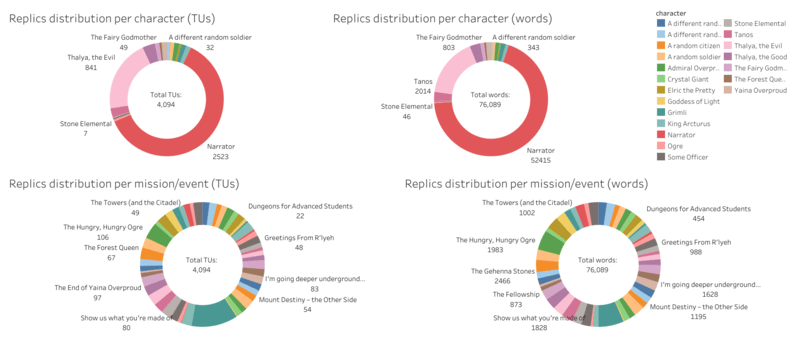

What the dashboard file says about the page in this screenshot:
{"tool":"tableau","page":{"name":"Distribution per character & mission","canvas":[1000,1000],"units":"permille","ordinal":1},"visuals":[{"type":"worksheet","title":"Replics distribution per character (TUs)","mark":"Pie","rows":["Calculation_1163899077726212097","Calculation_1163899077726212097"],"box":[4.8,9.9,417.6,490.1]},{"type":"worksheet","title":"Replics distribution per character (words)","mark":"Pie","rows":["Calculation_1163899077726212097","Calculation_1163899077726212097"],"box":[422.4,9.9,417.6,490.1]},{"type":"legend","title":"Replics distribution per character (words)","param":"[federated.0x1b8ga13vp1jb1fwskvd0o3y9lx].[none:character:nk]","box":[840.1,9.9,155.1,490.1]},{"type":"worksheet","title":"Replics distribution per mission/event (TUs)","mark":"Pie","rows":["Calculation_1163899077726212097","Calculation_1163899077726212097"],"box":[4.8,500,495.2,490.1]},{"type":"worksheet","title":"Replics distribution per mission/event (words)","mark":"Pie","rows":["Calculation_1163899077726212097","Calculation_1163899077726212097"],"box":[500,500,495.2,490.1]}]}

Visuals, with their boxes on the dashboard's canvas, which has no fixed pixel size, in thousandths of its width and height (x1, y1, x2, y2). These are canvas units, not pixel positions in the 800x339 screenshot, which may show the page scaled, cropped or inside an application window:
"Replics distribution per character (TUs)" worksheet (Pie marks): (5, 10, 422, 500)
"Replics distribution per character (words)" worksheet (Pie marks): (422, 10, 840, 500)
"Replics distribution per character (words)" legend: (840, 10, 995, 500)
"Replics distribution per mission/event (TUs)" worksheet (Pie marks): (5, 500, 500, 990)
"Replics distribution per mission/event (words)" worksheet (Pie marks): (500, 500, 995, 990)
